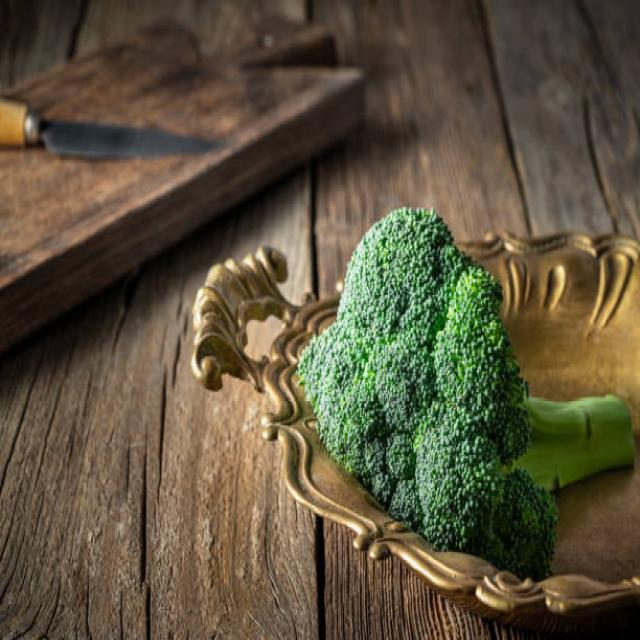Broccoli head: (319, 218, 633, 537)
